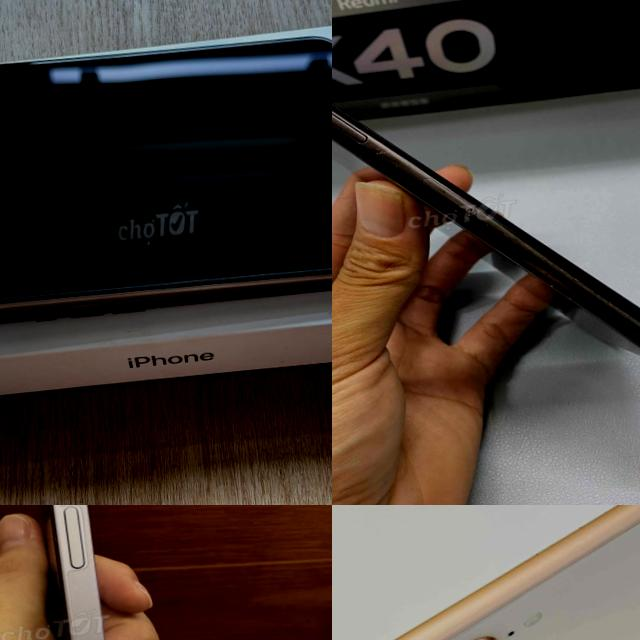gen_11: (332, 0, 640, 416)
gen_14: (7, 505, 147, 640)
gen_16: (0, 19, 332, 344)
gen_7_8: (332, 505, 640, 640)
